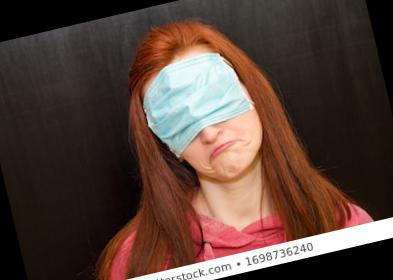mask_weared_incorrect: (149, 62, 266, 195)
